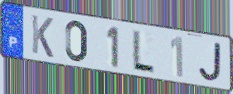0: (64, 19, 89, 64)
1: (105, 25, 120, 69), (170, 35, 184, 79)
J: (197, 42, 223, 84)
K: (30, 13, 55, 60)
L: (130, 28, 156, 75)
